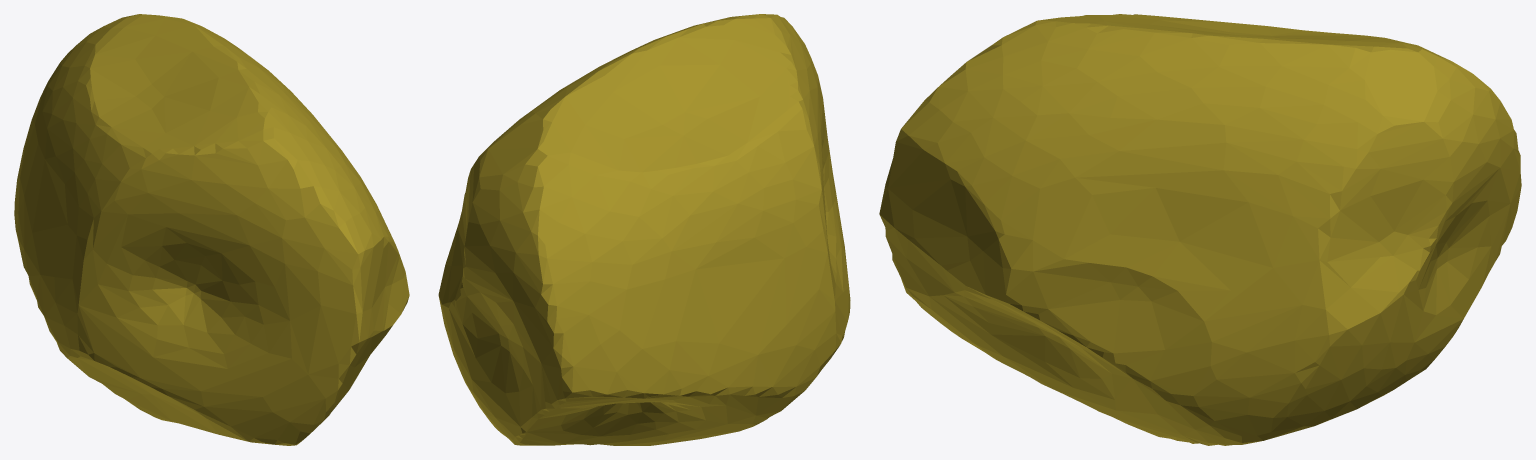
File: SandBlock2.fbx
3 renders of one model, left to right at view 1: azimuth 30°, elevation 25°; view 2: azimuth 150°, elevation 25°; view 3: azimuth 270°, elevation 25°, orthographic. The views are drawn at different scales.
Visible parts, largest first — view 1: Cube; view 2: Cube; view 3: Cube.
Part boxes in pixels (x1,y1,x2,y2): Cube: (14,14,409,445); Cube: (438,14,850,445); Cube: (879,14,1521,445).
Bounding box in the file's own units: 277 × 459 × 313.
